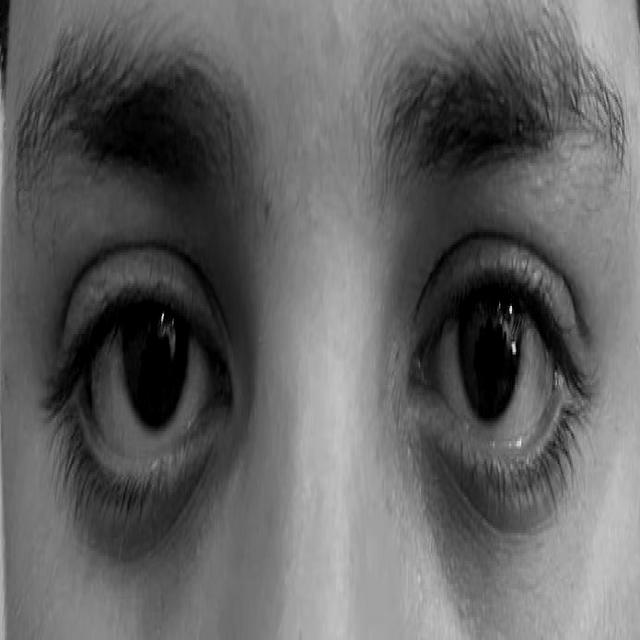real: (36, 155, 615, 600)
